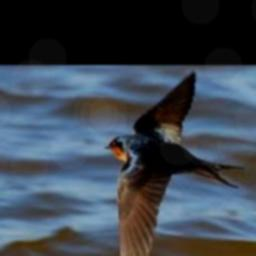Swallow: (104, 71, 244, 256)
